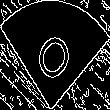O_SW: (31, 22, 79, 88)
